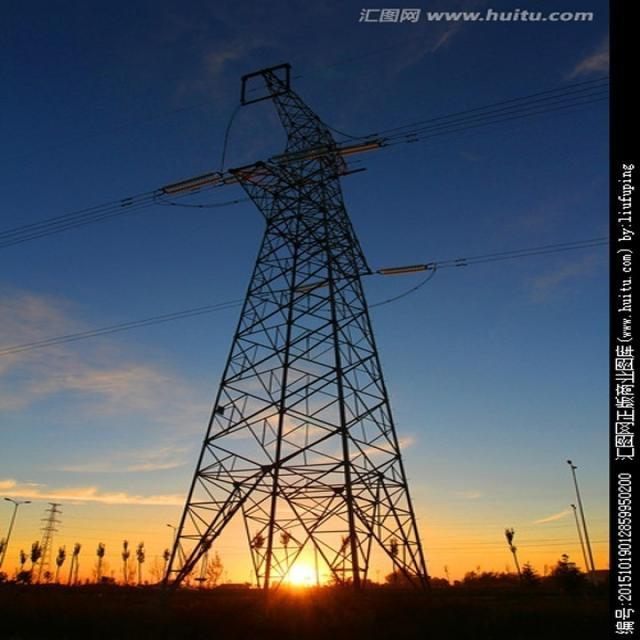non-critical vegetation: (152, 61, 430, 573)
